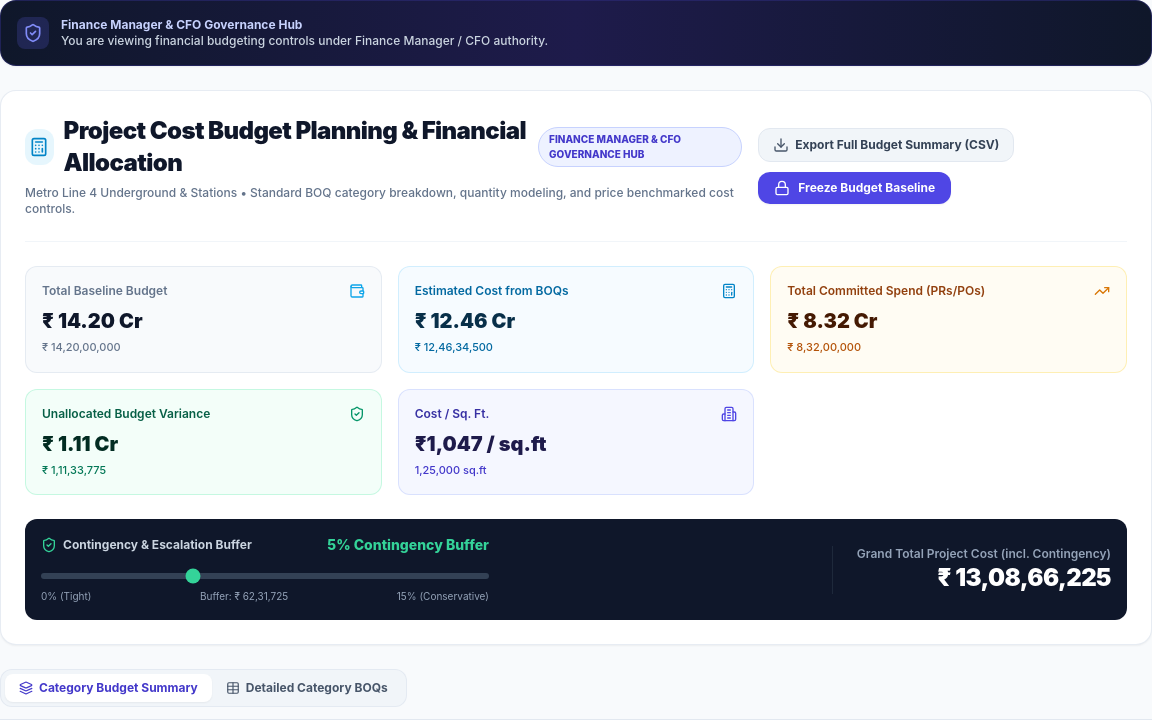
Scenario: BudgetPlanningModule Component & Budget System › updates contingency buffer rate using slider
The image size is (1152, 720).
Set the slider to "8" at x=279, y=576, box [41,573,489,579]
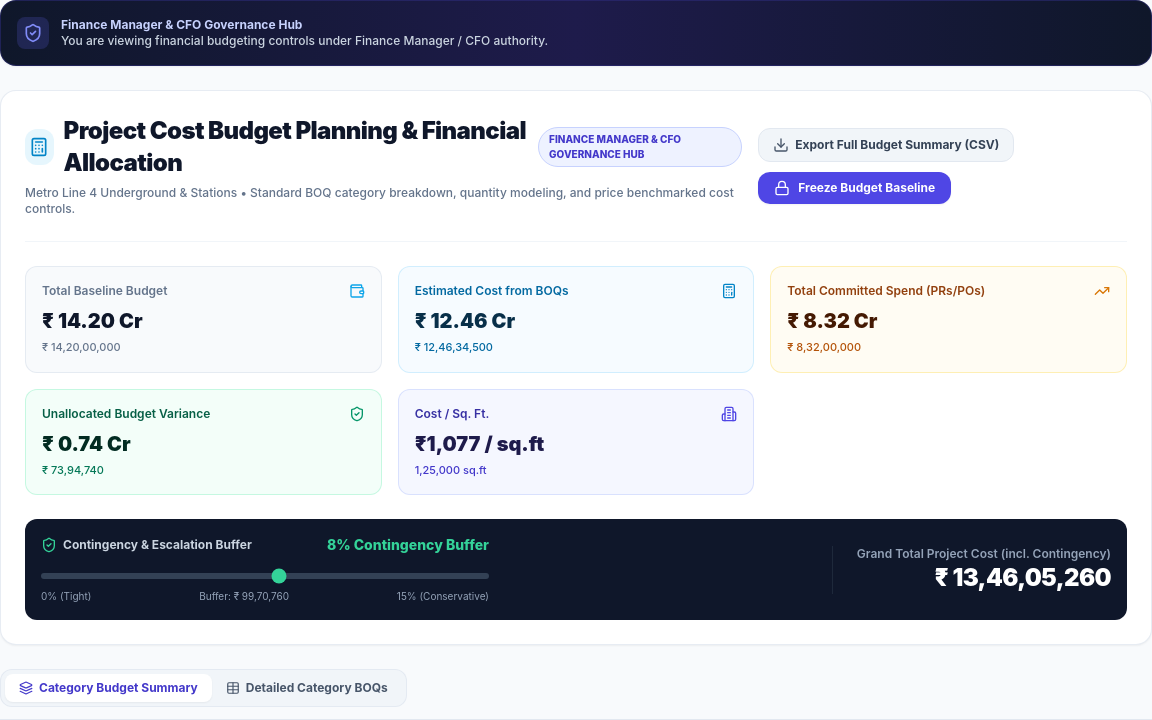
Expected: the text "8% Contingency Buffer" is shown, [327,535,489,555]
